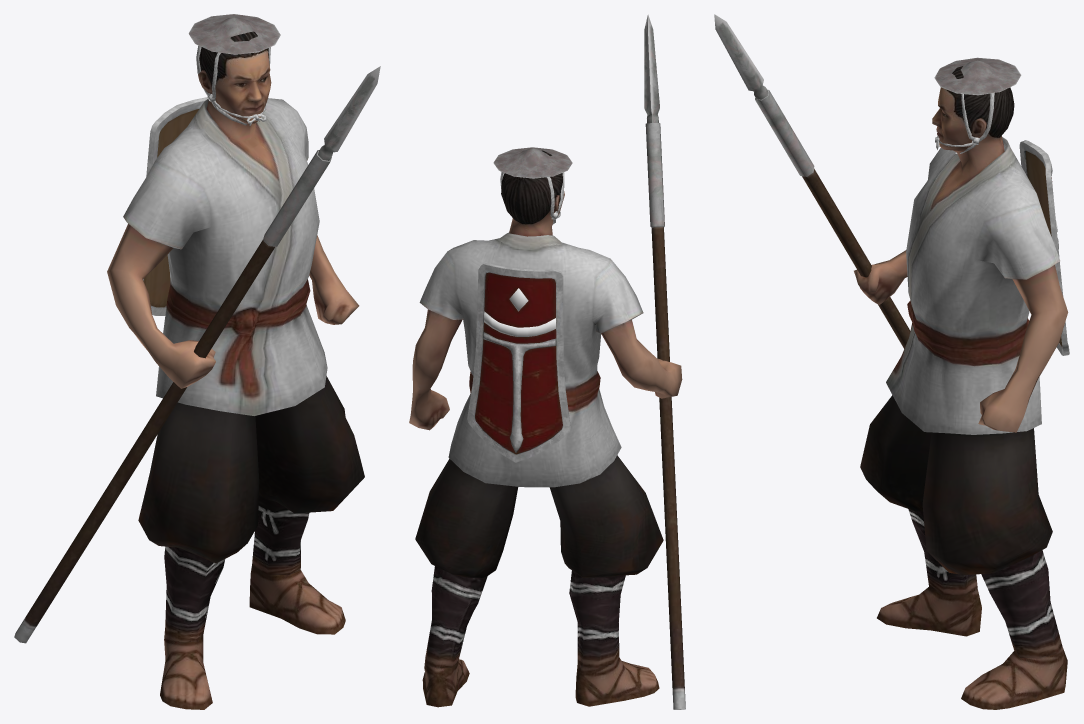
The model's file is 181-yarispearman.glb.
3 views of the same model, side by side, from view 1: azimuth 30°, elevation 25°; view 2: azimuth 150°, elevation 25°; view 3: azimuth 270°, elevation 25° (orthographic). The views are drawn at different scales.
Size of the model in its own units: 1.11 by 2.22 by 1.11.
4 materials, 4 textured.
